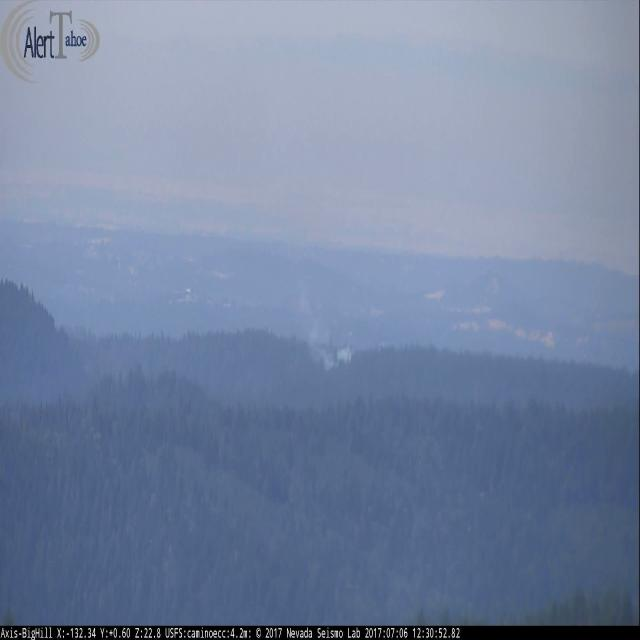smoke: (311, 316, 356, 369)
